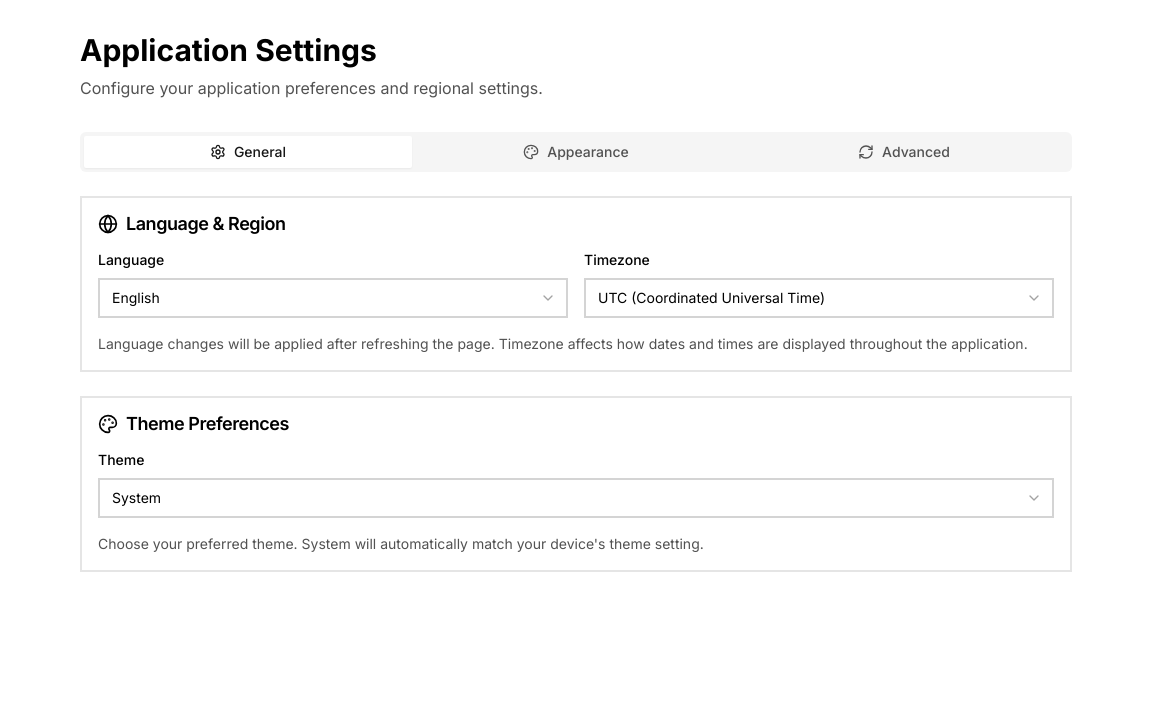
Test: SettingsPage › displays informational content in appearance tab
Click the tab "Appearance": x=576, y=152 [412,136,740,168]
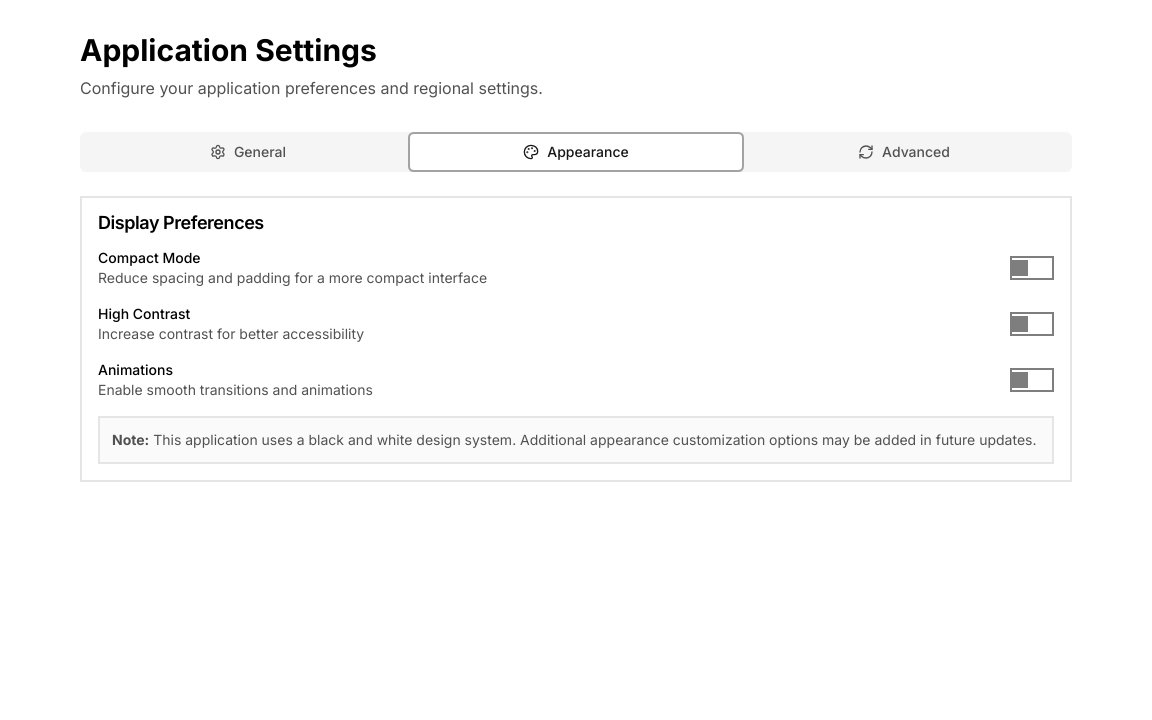
Now the text "This application uses a black and white design system" is shown, box [149,431,1036,448]
